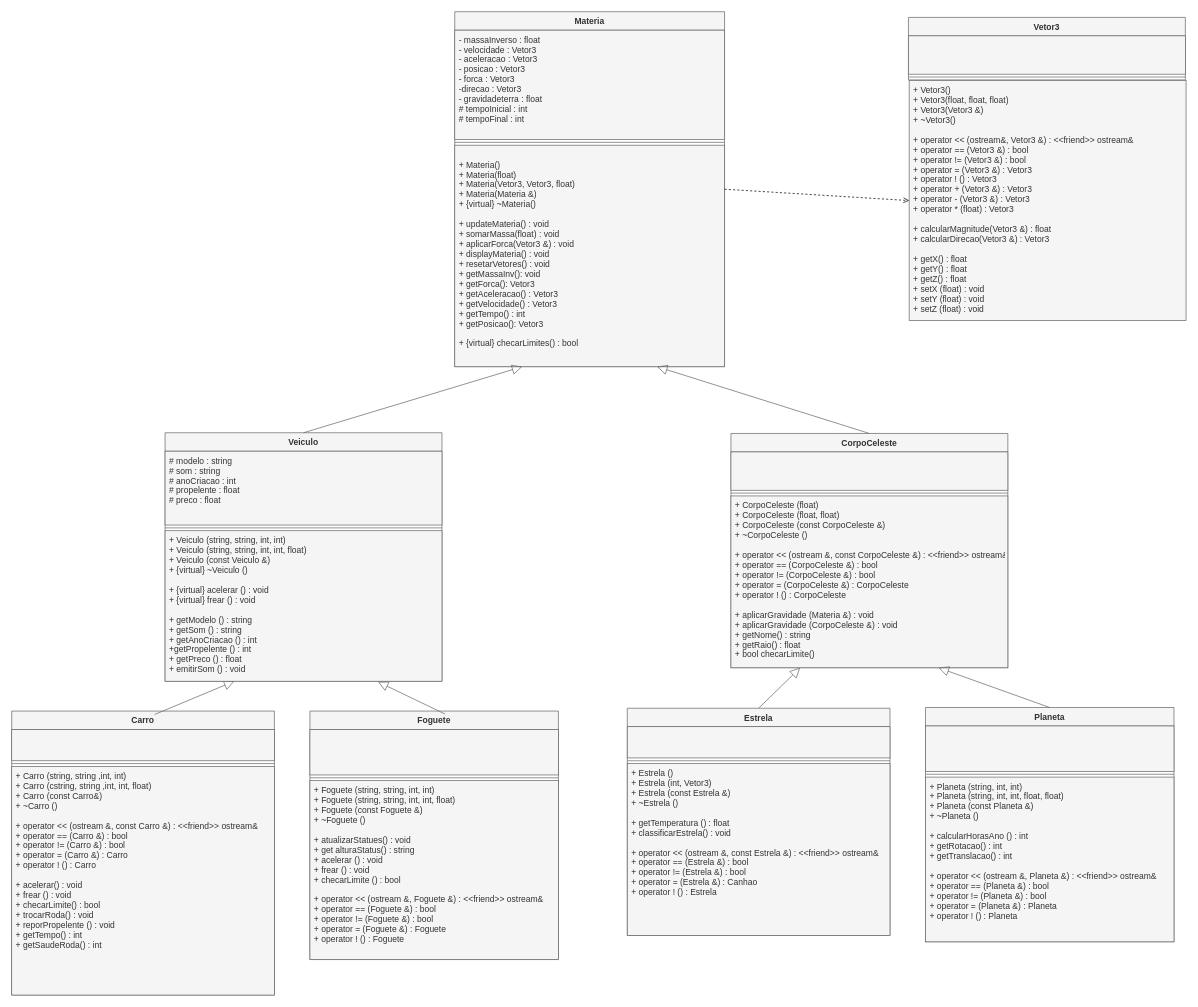
This 1198x1007 diagram has some shape labels left out. The shapes that lost their labels are listed below. From the top down, each one's centre as x and y in pixels, then its label:
[1046,54]: - x : float - y : float - z : float
[869,470]: - nome : string - raio : float - constantegravitacional : float
[142,745]: - rodaSaude: int
[433,752]: - statusAltura : string
[758,742]: - temperatura : float
[1049,748]: + periodoRotacao : int + periodoTranslacao : int
